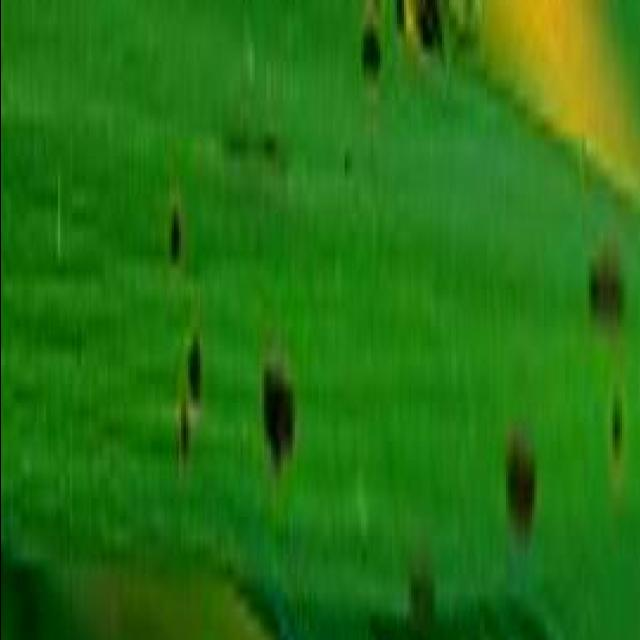Brown_Spot: (246, 348, 318, 496), (490, 426, 554, 566), (564, 244, 640, 348), (344, 15, 404, 111), (598, 367, 640, 498), (393, 564, 453, 628), (178, 329, 215, 415), (163, 182, 194, 284), (107, 36, 161, 88), (216, 116, 260, 173), (168, 398, 199, 472), (336, 144, 369, 197), (261, 128, 287, 170), (356, 548, 380, 576)
